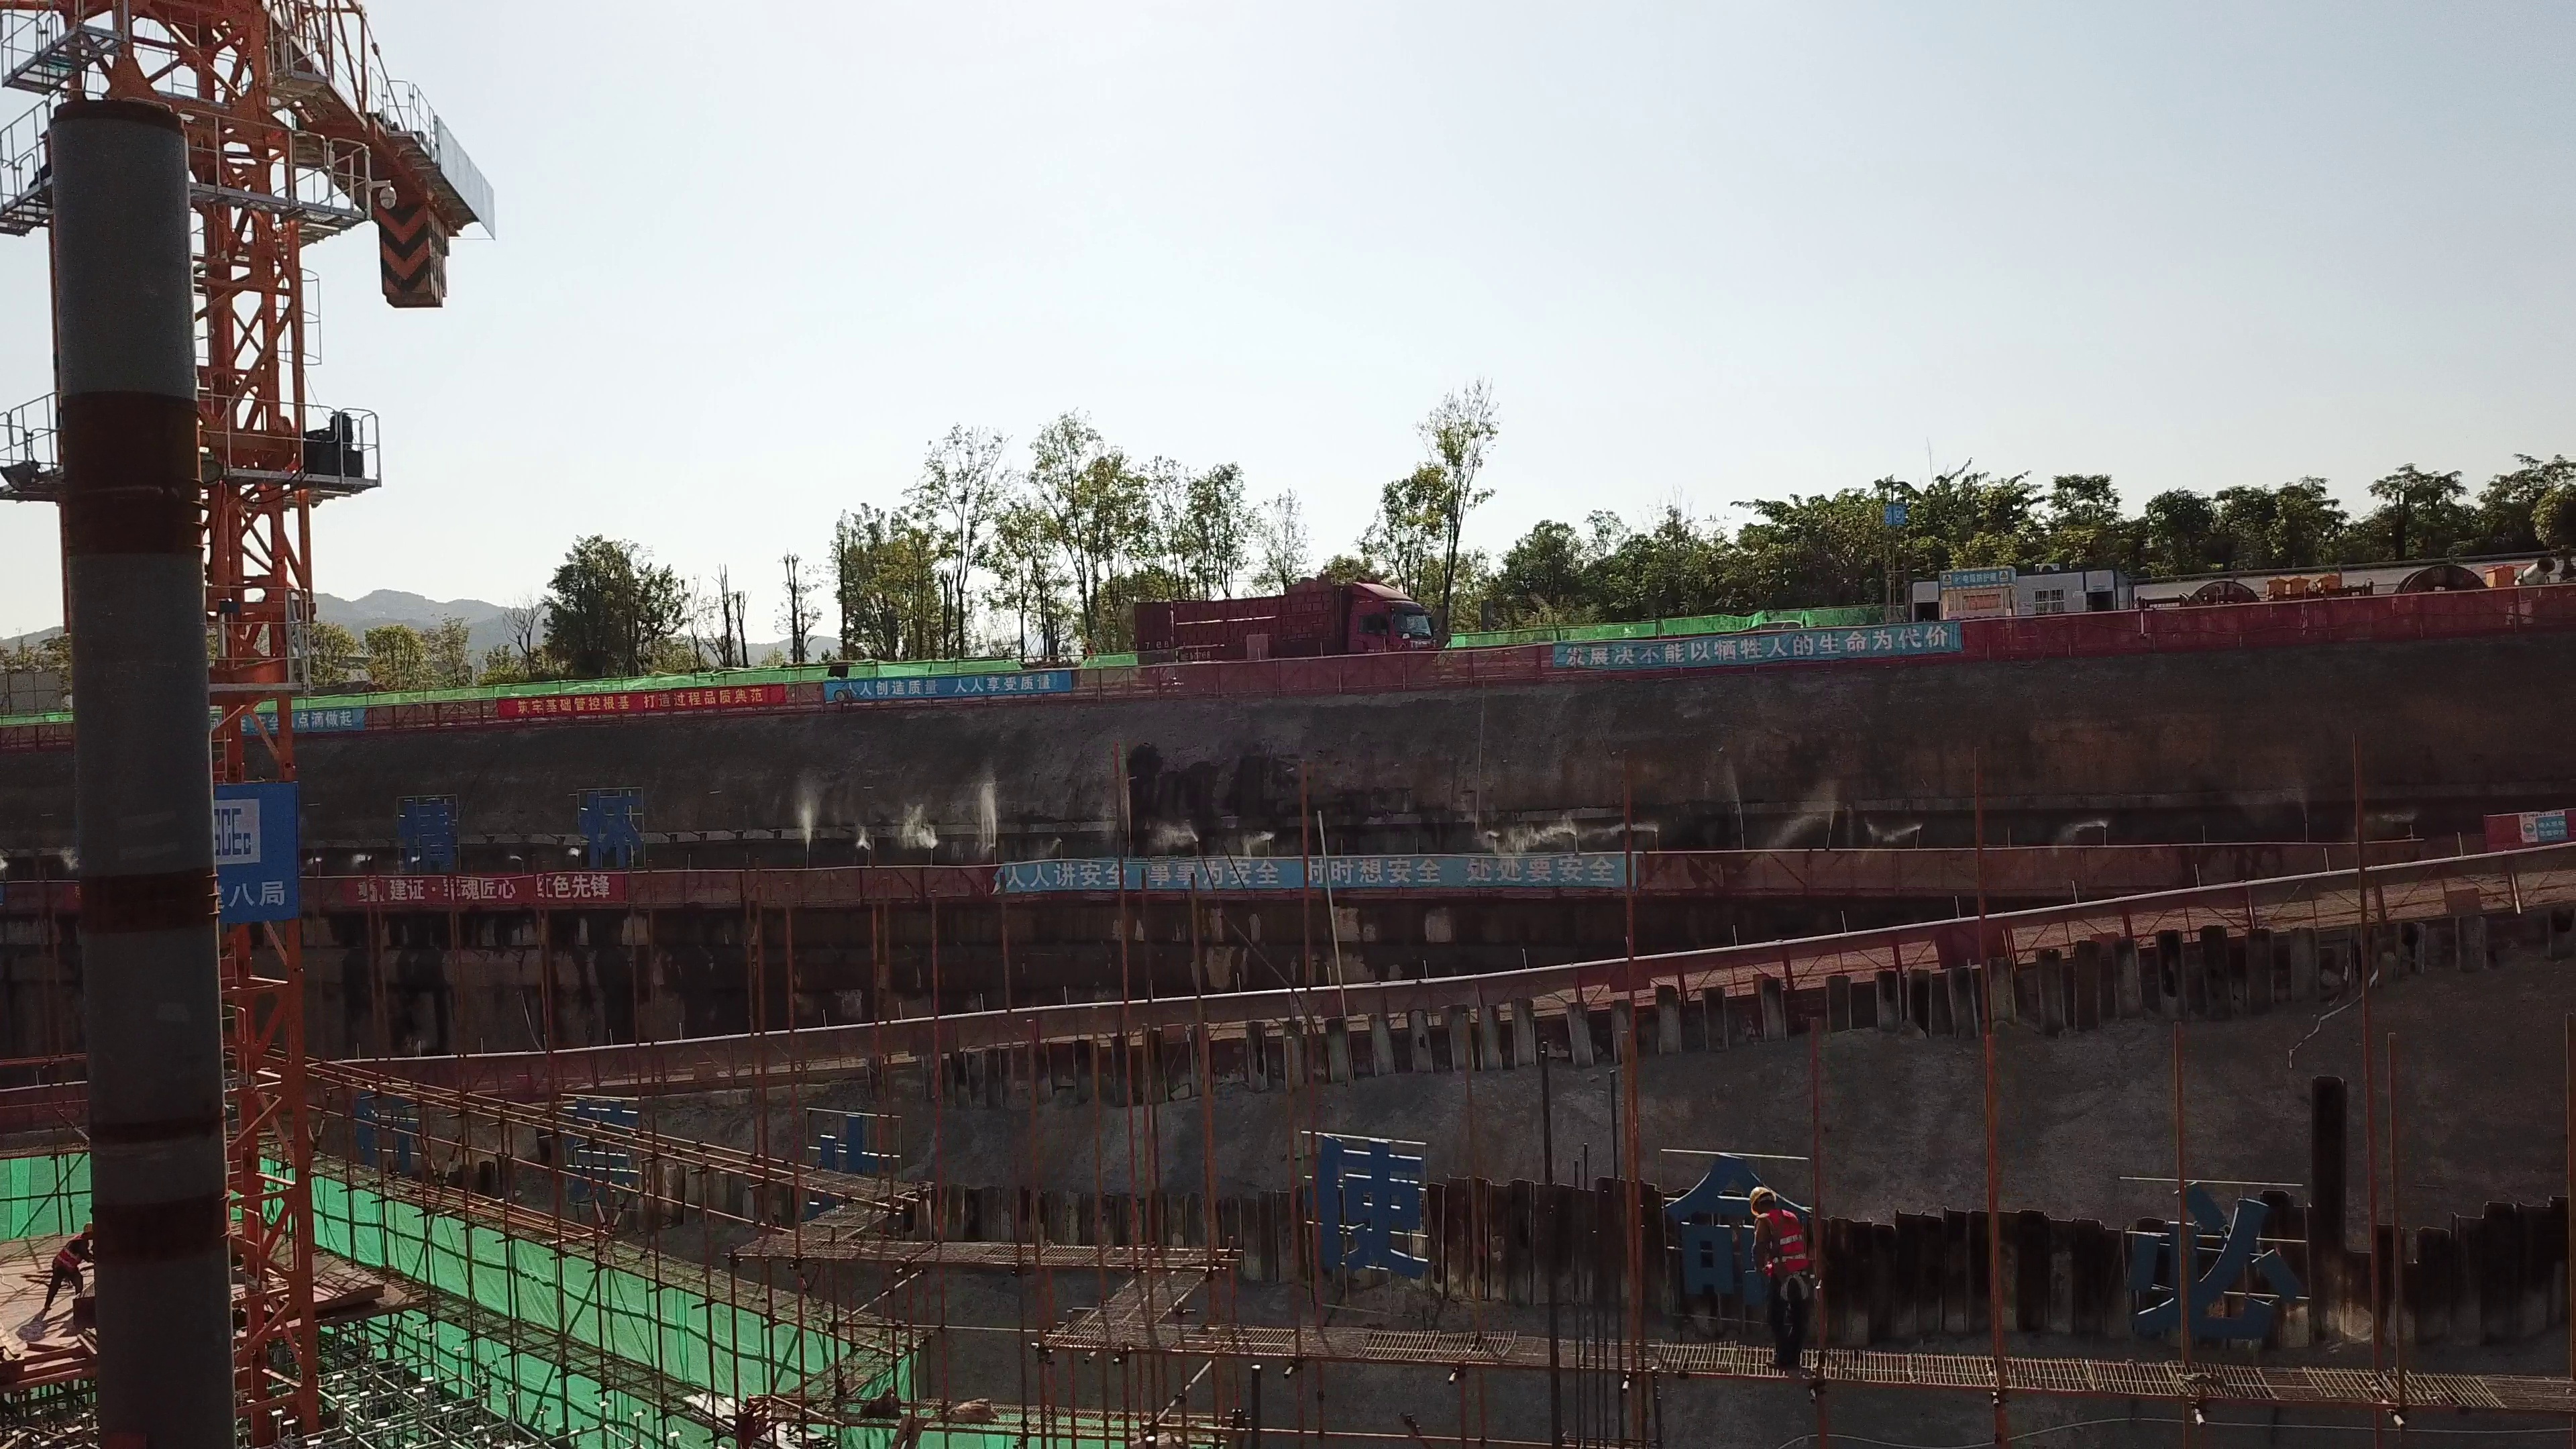fence: (1644, 842, 2192, 903), (1786, 904, 2123, 997), (1083, 646, 1540, 711), (1965, 598, 2556, 648), (2204, 852, 2501, 943), (631, 862, 998, 912)
helmet: (1749, 1183, 1778, 1216), (82, 1222, 97, 1234)
person: (1732, 1177, 1836, 1382), (32, 1220, 94, 1324)
slogan: (1552, 618, 1962, 674), (992, 856, 1633, 892), (342, 868, 627, 907), (495, 679, 787, 717), (824, 672, 1070, 707), (241, 704, 370, 739)
vest: (1754, 1216, 1818, 1274), (51, 1235, 87, 1273)
